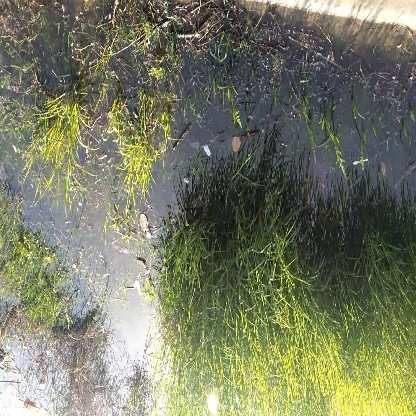grass: (28, 94, 88, 185)
